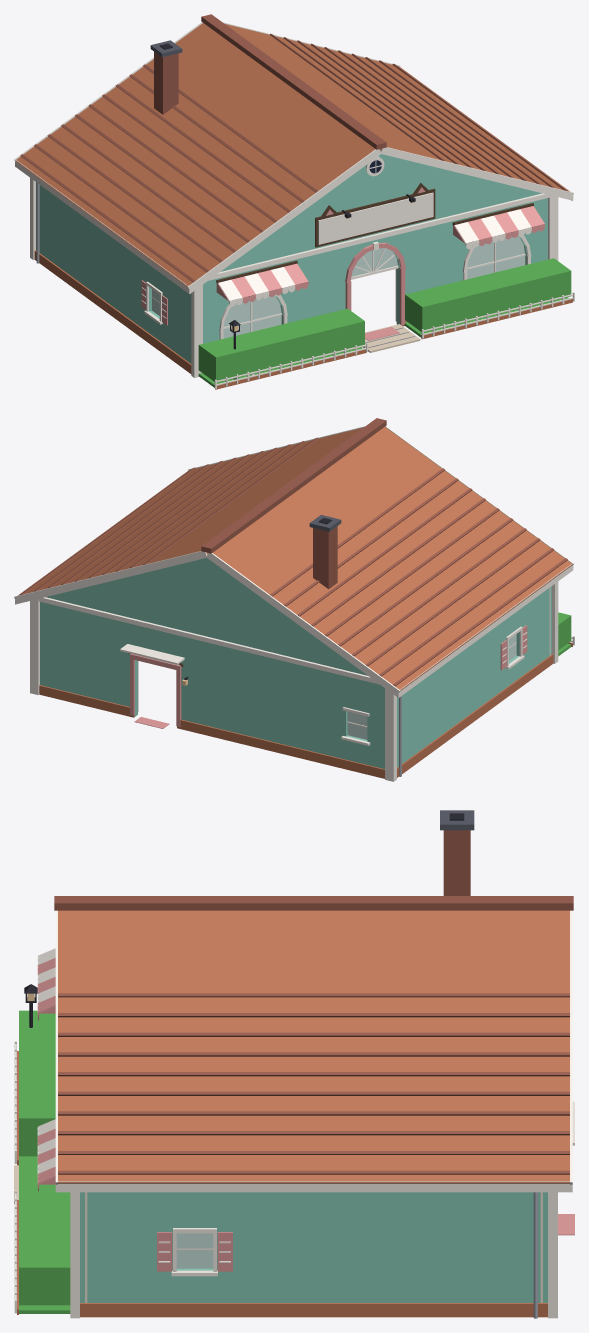
The model's file is CatCafe_Plot_Cafe_Mint_48x37.glb.
3 views of the same model, one above another, from view 1: azimuth 30°, elevation 25°; view 2: azimuth 150°, elevation 25°; view 3: azimuth 270°, elevation 25° (orthographic). The views are drawn at different scales.
Visible parts, largest first — view 1: CatCafe_Plot_Cafe_Mint_48x37_Roof, CatCafe_Plot_Cafe_Mint_48x37_Paint, CatCafe_Plot_Cafe_Mint_48x37_Fireflies, CatCafe_Plot_Cafe_Mint_48x37_Trim, CatCafe_Plot_Cafe_Mint_48x37_Roof_Trim, CatCafe_Plot_Cafe_Mint_48x37_Awning, CatCafe_Plot_Cafe_Mint_48x37_Glass, CatCafe_Plot_Cafe_Mint_48x37, CatCafe_Plot_Cafe_Mint_48x37_Garden, CatCafe_Plot_Cafe_Mint_48x37_SignBoard, CatCafe_Plot_Cafe_Mint_48x37_Path, CatCafe_Plot_Cafe_Mint_48x37_Flowers; view 2: CatCafe_Plot_Cafe_Mint_48x37_Roof, CatCafe_Plot_Cafe_Mint_48x37_Paint, CatCafe_Plot_Cafe_Mint_48x37_Trim, CatCafe_Plot_Cafe_Mint_48x37_Roof_Trim, CatCafe_Plot_Cafe_Mint_48x37, CatCafe_Plot_Cafe_Mint_48x37_Glass; view 3: CatCafe_Plot_Cafe_Mint_48x37_Roof, CatCafe_Plot_Cafe_Mint_48x37_Paint, CatCafe_Plot_Cafe_Mint_48x37_Fireflies, CatCafe_Plot_Cafe_Mint_48x37, CatCafe_Plot_Cafe_Mint_48x37_Roof_Trim, CatCafe_Plot_Cafe_Mint_48x37_Trim, CatCafe_Plot_Cafe_Mint_48x37_Awning, CatCafe_Plot_Cafe_Mint_48x37_Garden, CatCafe_Plot_Cafe_Mint_48x37_Glass, CatCafe_Plot_Cafe_Mint_48x37_Wallpaper.
Part boxes in pixels (<box>): CatCafe_Plot_Cafe_Mint_48x37_Roof: <box>15,14,569,286</box>; CatCafe_Plot_Cafe_Mint_48x37_Paint: <box>36,154,547,363</box>; CatCafe_Plot_Cafe_Mint_48x37_Fireflies: <box>198,258,571,382</box>; CatCafe_Plot_Cafe_Mint_48x37_Trim: <box>30,156,558,377</box>; CatCafe_Plot_Cafe_Mint_48x37_Roof_Trim: <box>14,22,573,293</box>; CatCafe_Plot_Cafe_Mint_48x37_Awning: <box>216,206,544,306</box>; CatCafe_Plot_Cafe_Mint_48x37_Glass: <box>152,236,525,338</box>; CatCafe_Plot_Cafe_Mint_48x37: <box>34,160,525,373</box>; CatCafe_Plot_Cafe_Mint_48x37_Garden: <box>214,292,574,389</box>; CatCafe_Plot_Cafe_Mint_48x37_SignBoard: <box>318,192,433,244</box>; CatCafe_Plot_Cafe_Mint_48x37_Path: <box>363,324,420,352</box>; CatCafe_Plot_Cafe_Mint_48x37_Flowers: <box>198,297,568,387</box>; CatCafe_Plot_Cafe_Mint_48x37_Roof: <box>18,418,572,690</box>; CatCafe_Plot_Cafe_Mint_48x37_Paint: <box>40,558,551,768</box>; CatCafe_Plot_Cafe_Mint_48x37_Trim: <box>30,581,558,781</box>; CatCafe_Plot_Cafe_Mint_48x37_Roof_Trim: <box>14,426,573,697</box>; CatCafe_Plot_Cafe_Mint_48x37: <box>39,625,553,778</box>; CatCafe_Plot_Cafe_Mint_48x37_Glass: <box>347,634,516,739</box>; CatCafe_Plot_Cafe_Mint_48x37_Roof: <box>54,810,573,1183</box>; CatCafe_Plot_Cafe_Mint_48x37_Paint: <box>80,1192,547,1302</box>; CatCafe_Plot_Cafe_Mint_48x37_Fireflies: <box>19,1010,70,1305</box>; CatCafe_Plot_Cafe_Mint_48x37: <box>80,1192,574,1318</box>; CatCafe_Plot_Cafe_Mint_48x37_Roof_Trim: <box>55,910,572,1192</box>; CatCafe_Plot_Cafe_Mint_48x37_Trim: <box>70,1101,574,1318</box>; CatCafe_Plot_Cafe_Mint_48x37_Awning: <box>37,948,55,1191</box>; CatCafe_Plot_Cafe_Mint_48x37_Garden: <box>14,984,37,1314</box>; CatCafe_Plot_Cafe_Mint_48x37_Glass: <box>176,1233,213,1268</box>; CatCafe_Plot_Cafe_Mint_48x37_Wallpaper: <box>85,1192,542,1302</box>.
Size of the model in its own units: 53.86 by 28.2 by 45.8.
1 material, 1 textured.
